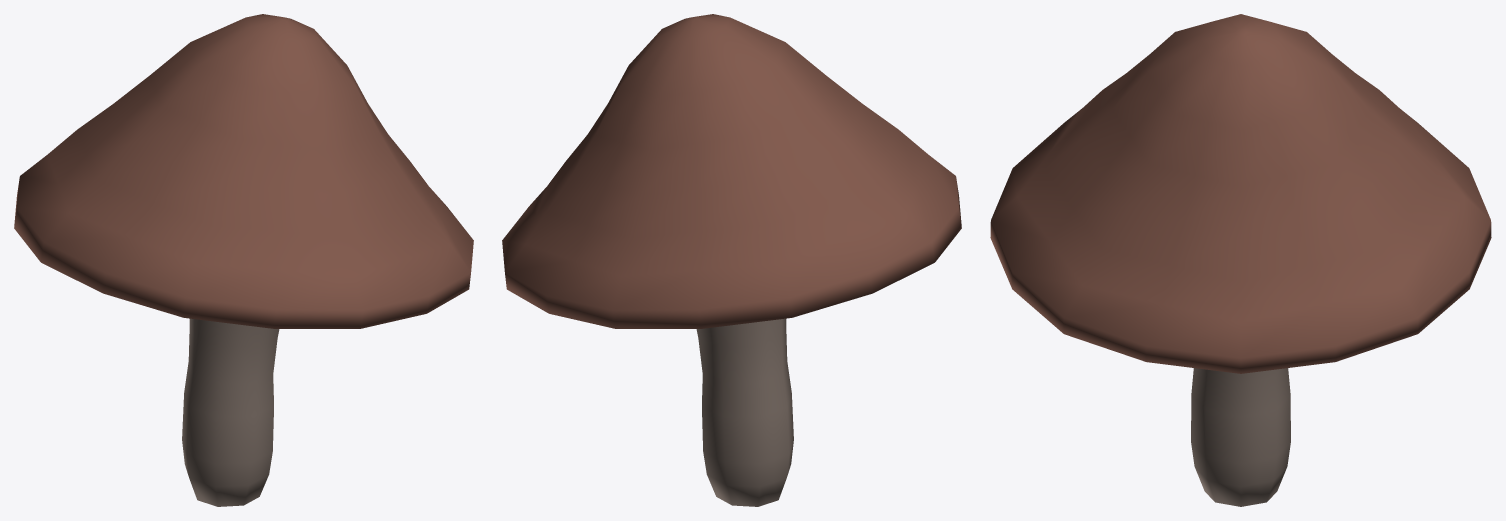
Rendered from BrownMushroom.fbx.
3 renders of one model, left to right at view 1: azimuth 30°, elevation 25°; view 2: azimuth 150°, elevation 25°; view 3: azimuth 270°, elevation 25°, orthographic. The views are drawn at different scales.
Visible parts, largest first — view 1: BrownMushroom_LOD0; view 2: BrownMushroom_LOD0; view 3: BrownMushroom_LOD0.
Part boxes in pixels (x1,y1,x2,y2): BrownMushroom_LOD0: (14,14,473,506); BrownMushroom_LOD0: (502,14,961,506); BrownMushroom_LOD0: (990,14,1491,506).
Size of what is drawn, in the model's own units: 18.15 by 19.72 by 18.24.
